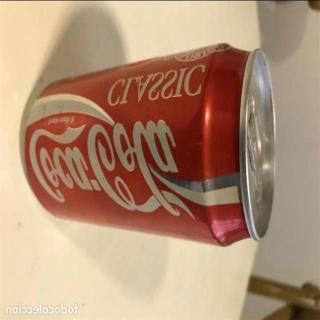Anorganik: (17, 41, 281, 258)
